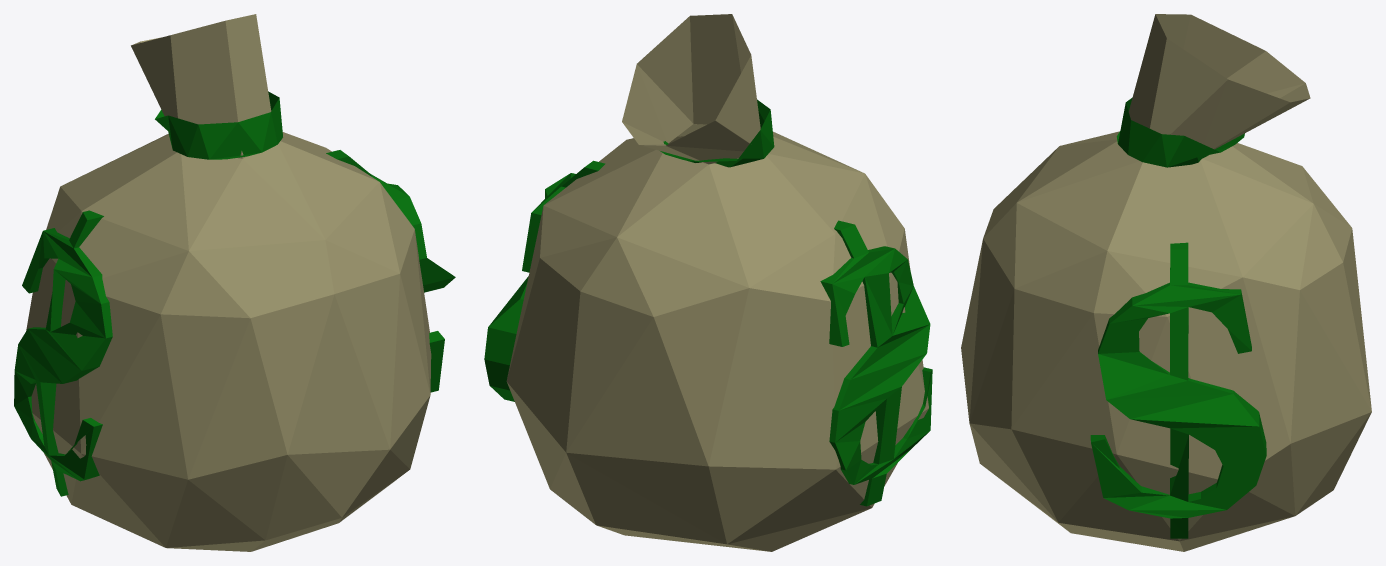
File: Cash ($50).glb
3 renders of one model, left to right at view 1: azimuth 30°, elevation 25°; view 2: azimuth 150°, elevation 25°; view 3: azimuth 270°, elevation 25°, orthographic.
Parts seen in each view (by area): view 1: Sack, Text, Tie; view 2: Sack, Text, Tie; view 3: Sack, Text, Tie.
Part boxes in pixels (x1,y1,x2,y2): Sack: (26, 14, 431, 551); Text: (14, 150, 455, 496); Tie: (155, 91, 282, 159); Sack: (506, 14, 928, 551); Text: (484, 160, 932, 506); Tie: (660, 99, 774, 167); Sack: (961, 14, 1371, 551); Text: (1090, 242, 1266, 538); Tie: (1116, 97, 1244, 167).
Size of the model in its own units: 0.6433 by 0.8024 by 0.6.
